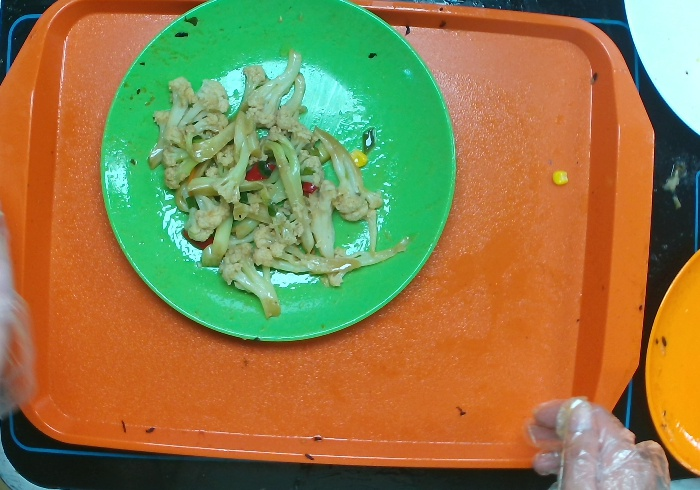HZYJPL-Lv_Se_Yuan_Pan: (98, 1, 458, 345)
